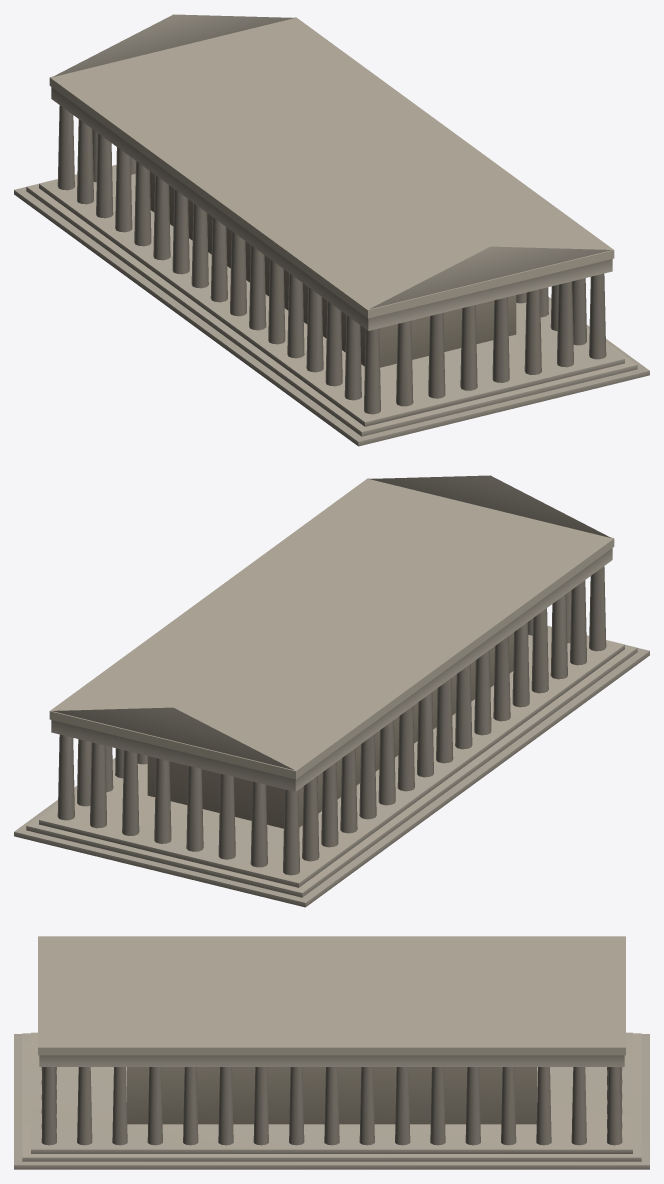
File: parthenon.glb
3 renders of one model, top to bottom at view 1: azimuth 30°, elevation 25°; view 2: azimuth 150°, elevation 25°; view 3: azimuth 270°, elevation 25°, orthographic. The views are drawn at different scales.
Visible parts, largest first — view 1: lack; view 2: lack; view 3: lack.
Part boxes in pixels (x1=…): lack: x1=14, y1=14, x2=649, y2=446; lack: x1=14, y1=475, x2=649, y2=907; lack: x1=14, y1=936, x2=649, y2=1169.
Bounding box in the file's own units: 36.9 × 18.67 × 75.5.
